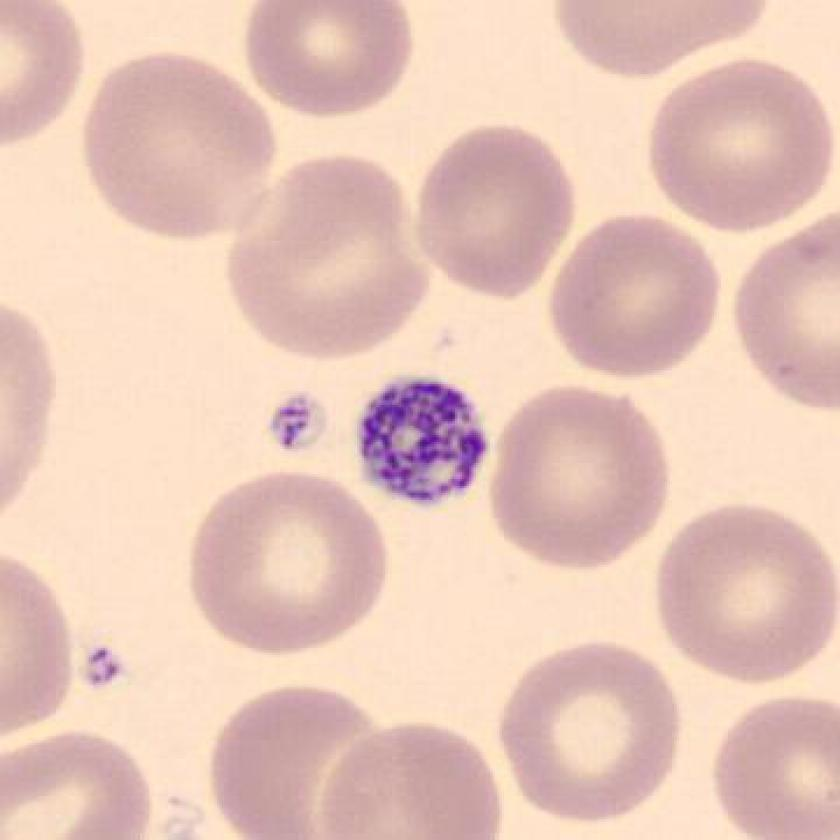platelets: (351, 367, 500, 519)
